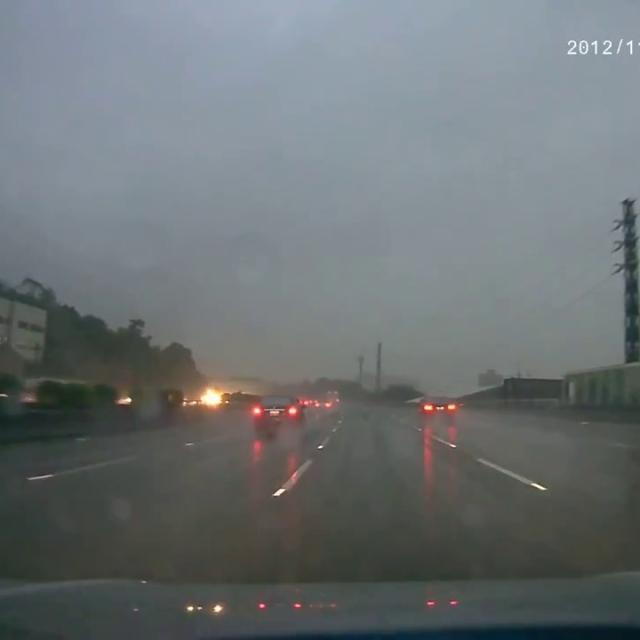Car: (249, 387, 306, 432), (412, 392, 455, 418)
